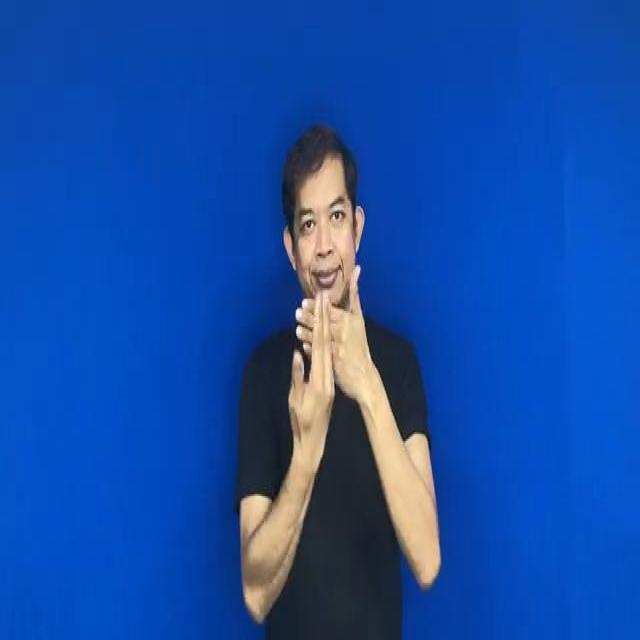bread: (281, 274, 380, 432)
